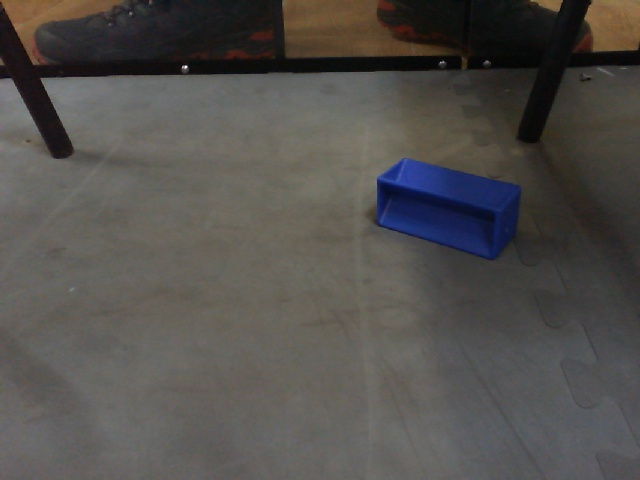BlueSample: (370, 156, 527, 264)
